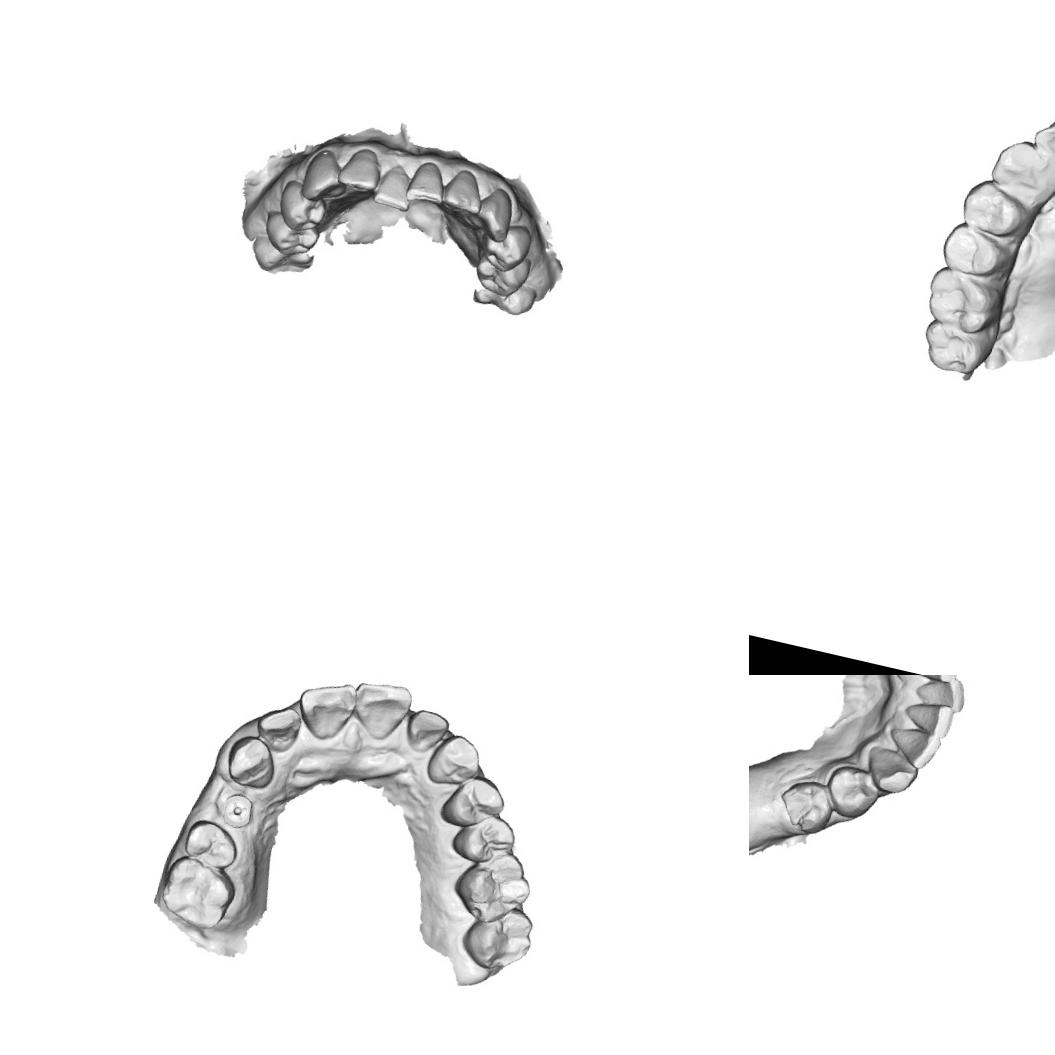canine: (982, 132, 1055, 204), (423, 729, 486, 792), (296, 145, 356, 208), (222, 730, 282, 792), (860, 743, 922, 800), (463, 182, 518, 245)
implant_plus: (218, 790, 256, 831)
incisor: (347, 676, 417, 746), (291, 675, 359, 745), (882, 722, 944, 774), (251, 700, 306, 756), (334, 142, 387, 196), (898, 695, 956, 742), (370, 159, 419, 214), (438, 166, 489, 218), (1021, 105, 1055, 180), (403, 706, 453, 757), (403, 158, 451, 210), (912, 675, 970, 715), (902, 675, 964, 686)
molar: (915, 260, 1016, 345), (448, 840, 540, 932), (154, 852, 241, 936), (455, 895, 539, 978), (915, 316, 1001, 384)
premolar: (955, 173, 1037, 245), (936, 219, 1016, 284), (437, 768, 510, 836), (448, 807, 520, 871), (773, 774, 838, 840), (820, 760, 886, 824), (474, 216, 536, 278), (272, 177, 333, 238), (258, 207, 324, 263), (180, 816, 243, 874), (470, 247, 533, 302)
